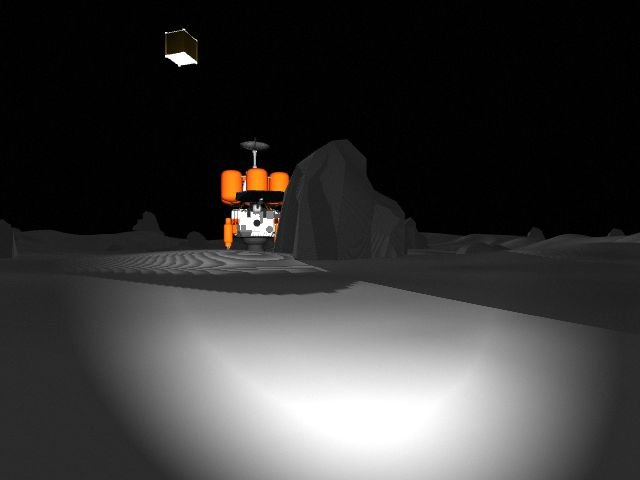cubesat: (156, 21, 205, 76)
